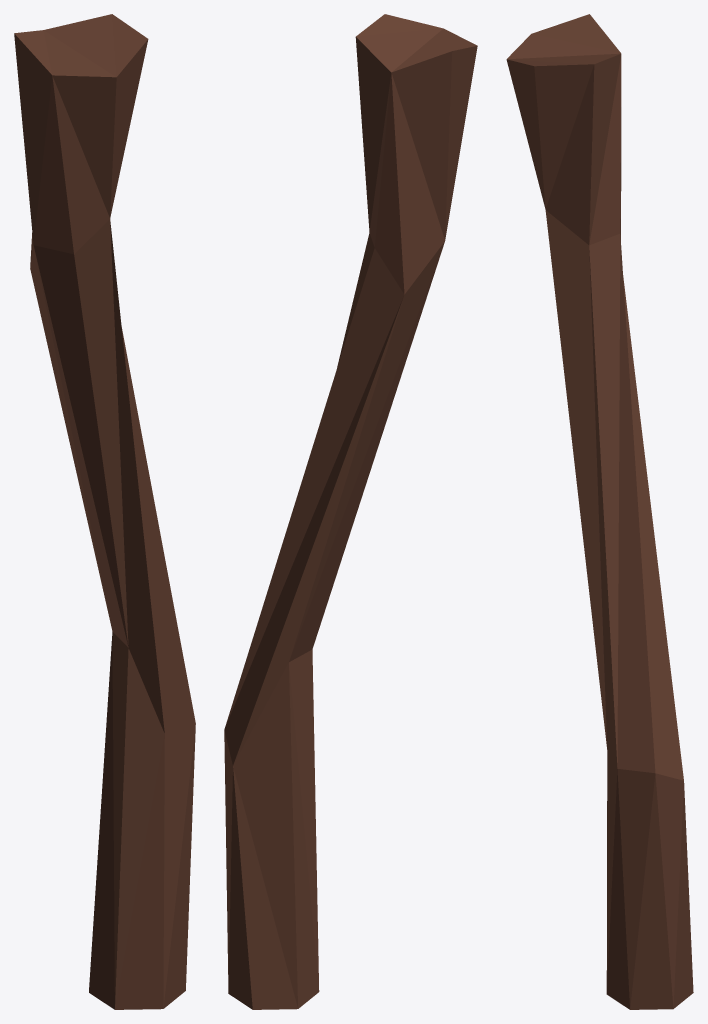
File: Wooden Stick_6.fbx
The picture shows the model from 3 angles, left to right: view 1: azimuth 30°, elevation 25°; view 2: azimuth 150°, elevation 25°; view 3: azimuth 270°, elevation 25°; orthographic projection. The views are drawn at different scales.
Visible parts, largest first — view 1: Wooden Stick_6.001; view 2: Wooden Stick_6.001; view 3: Wooden Stick_6.001.
Boxes of the visible parts, x1,y1,x2,y2 form: Wooden Stick_6.001: (14, 14, 195, 1009); Wooden Stick_6.001: (224, 14, 477, 1009); Wooden Stick_6.001: (506, 14, 693, 1009).
Size of the model in its own units: 0.2926 by 1.38 by 0.2566.
